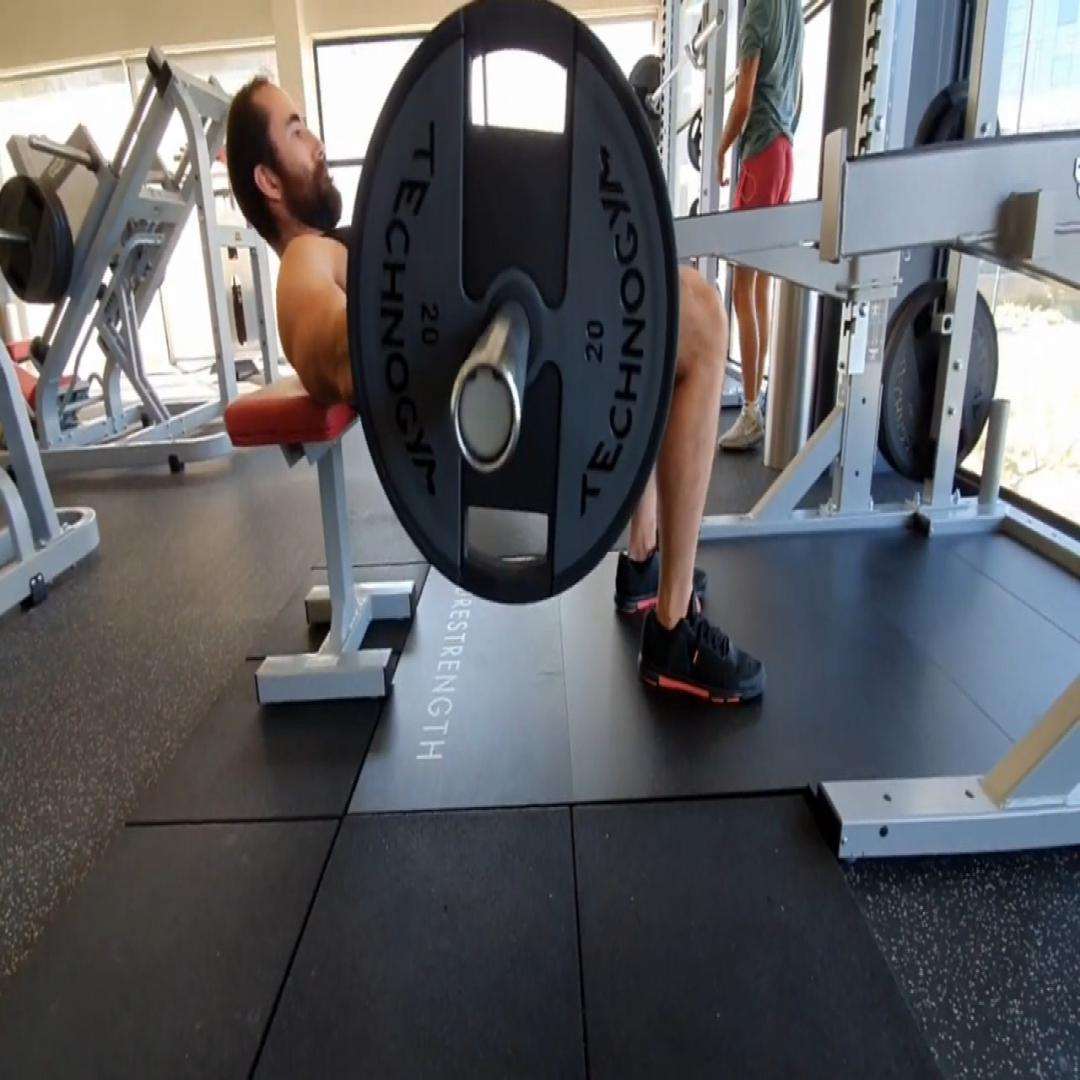Bar: (448, 354, 521, 474)
Barbell: (345, 0, 680, 608)
